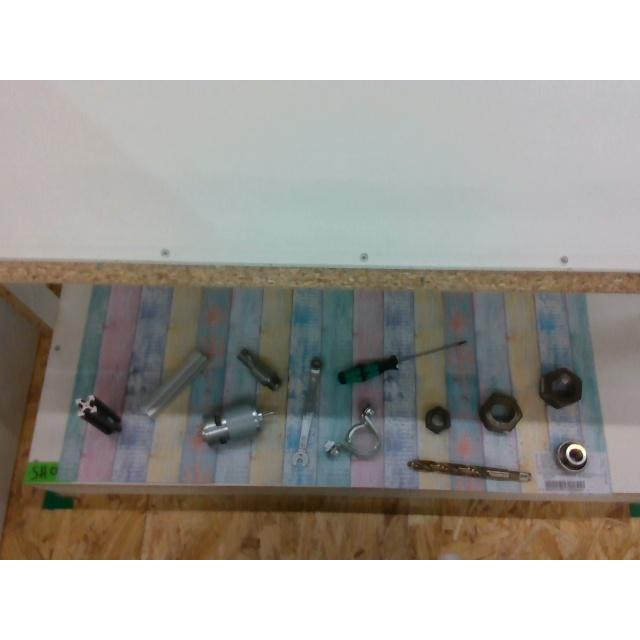Axis2: (237, 348, 280, 388)
Bearing2: (554, 442, 586, 471)
Drill: (408, 458, 532, 478)
F20_20_B: (76, 395, 120, 433)
F20_20_G: (146, 350, 206, 416)
Housing: (327, 406, 381, 458)
M20: (425, 404, 451, 432)
M30: (481, 392, 523, 433), (540, 367, 580, 407)
Motor2: (200, 404, 272, 444)
Screwdriver: (336, 339, 464, 381)
Wrench: (292, 357, 321, 467)
